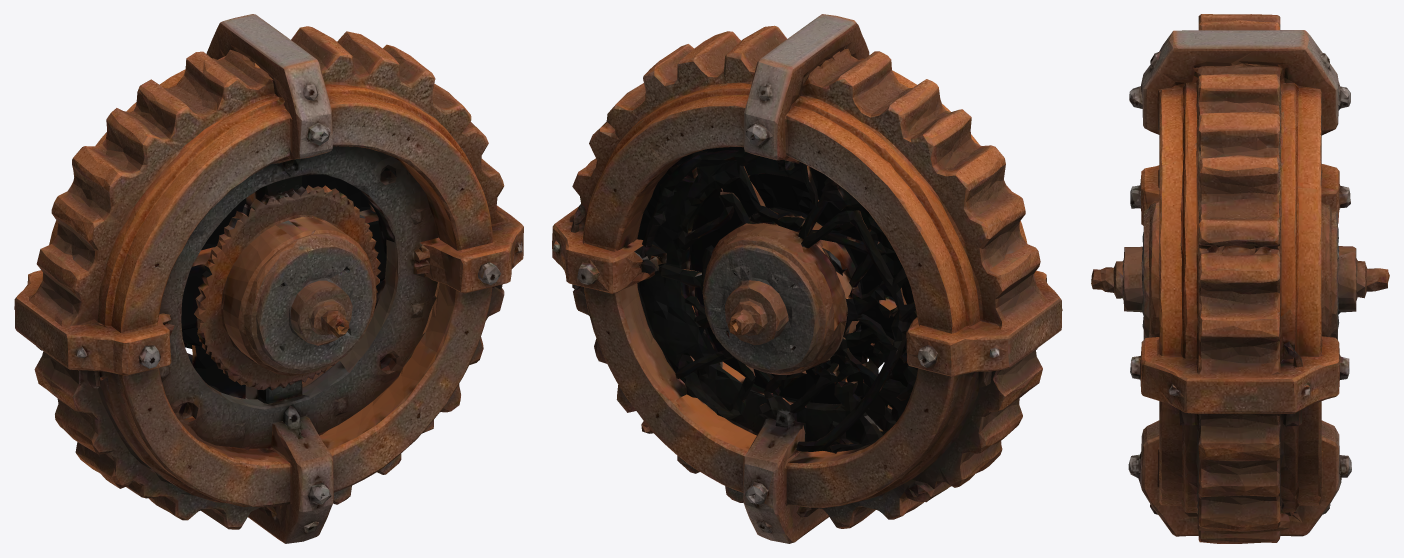
File: head (291).glb
3 renders of one model, left to right at view 1: azimuth 30°, elevation 25°; view 2: azimuth 150°, elevation 25°; view 3: azimuth 270°, elevation 25°, orthographic. The views are drawn at different scales.
Visible parts, largest first — view 1: Hy21_Mesh.obj; view 2: Hy21_Mesh.obj; view 3: Hy21_Mesh.obj.
Part boxes in pixels (x1,y1,x2,y2): Hy21_Mesh.obj: (14,14,523,543); Hy21_Mesh.obj: (552,14,1062,543); Hy21_Mesh.obj: (1091,14,1389,543).
Bounding box in the file's own units: 1.96 × 1.96 × 1.08.
1 material, 1 textured.
